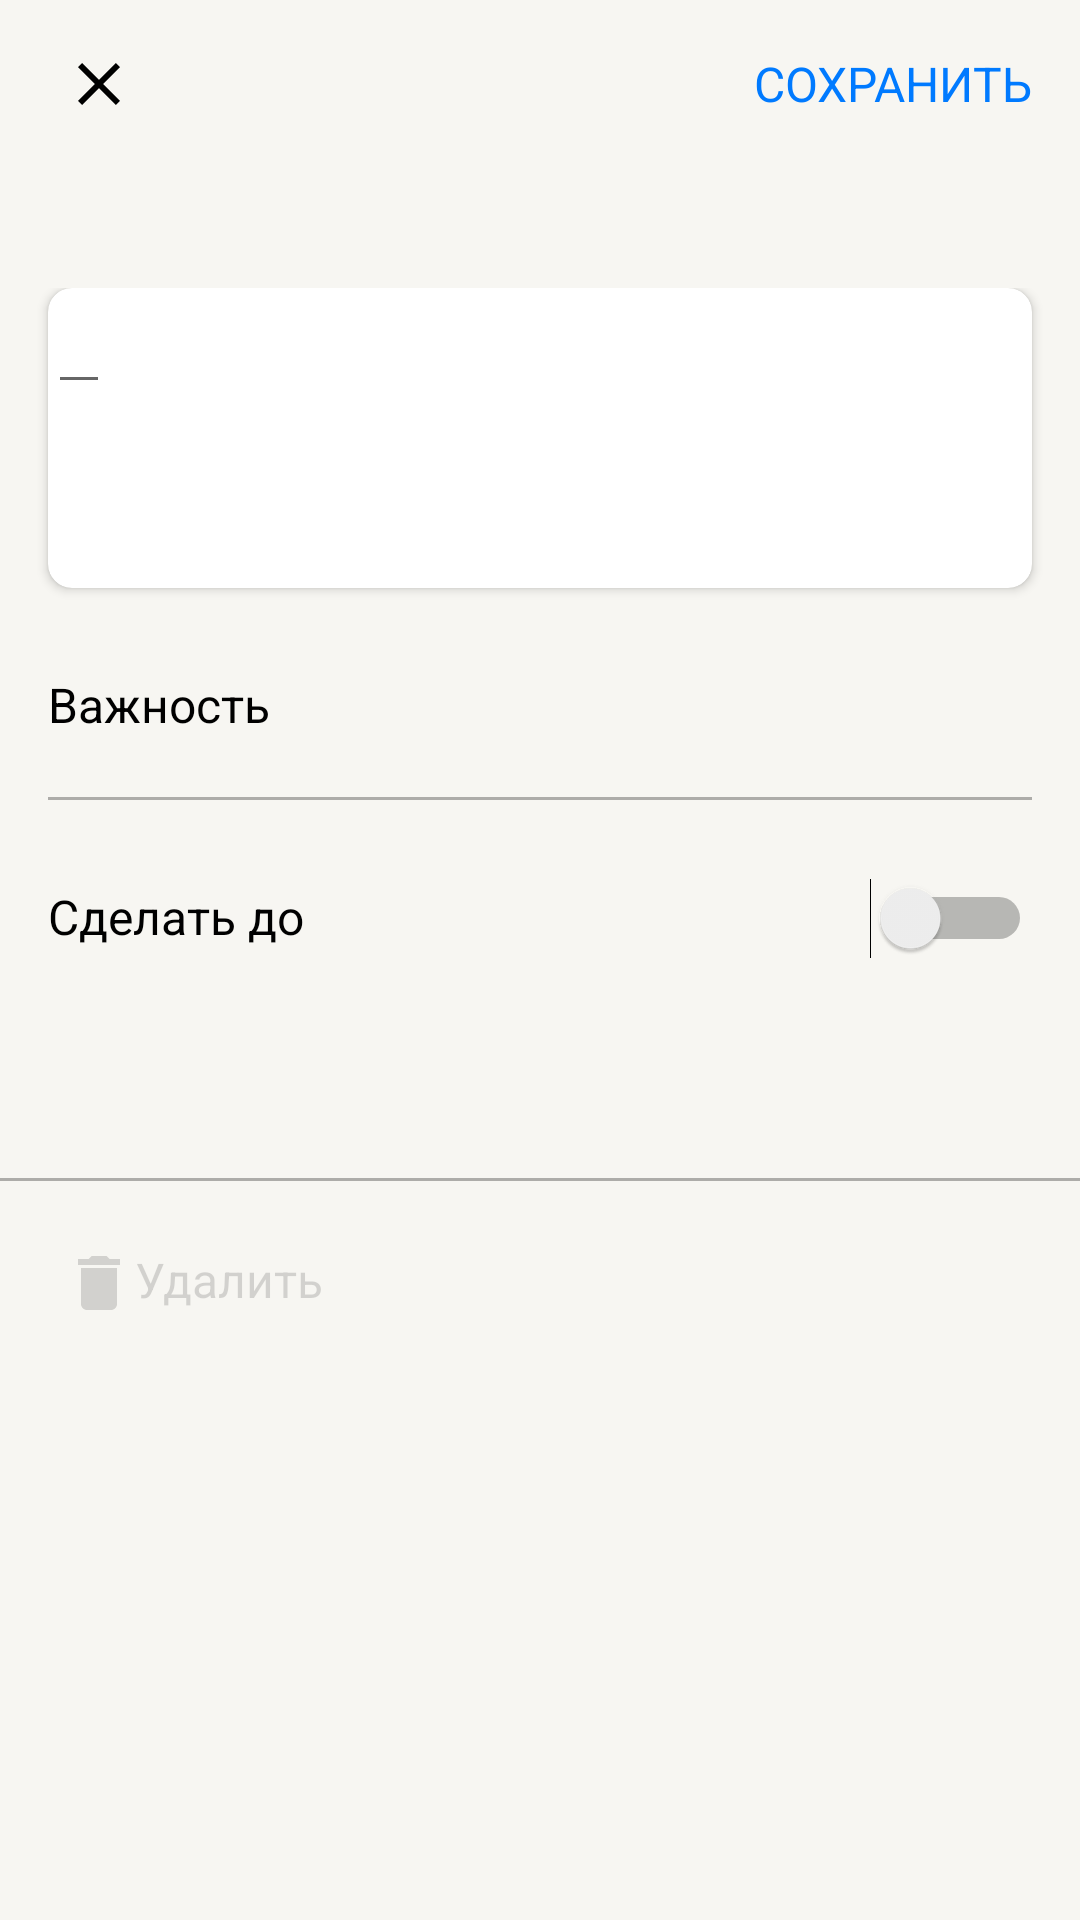

Where icons sit on this 1080*1920 app screen, as bbox=[x1, y1, x2, y2]:
close: bbox=[78, 63, 120, 105]
